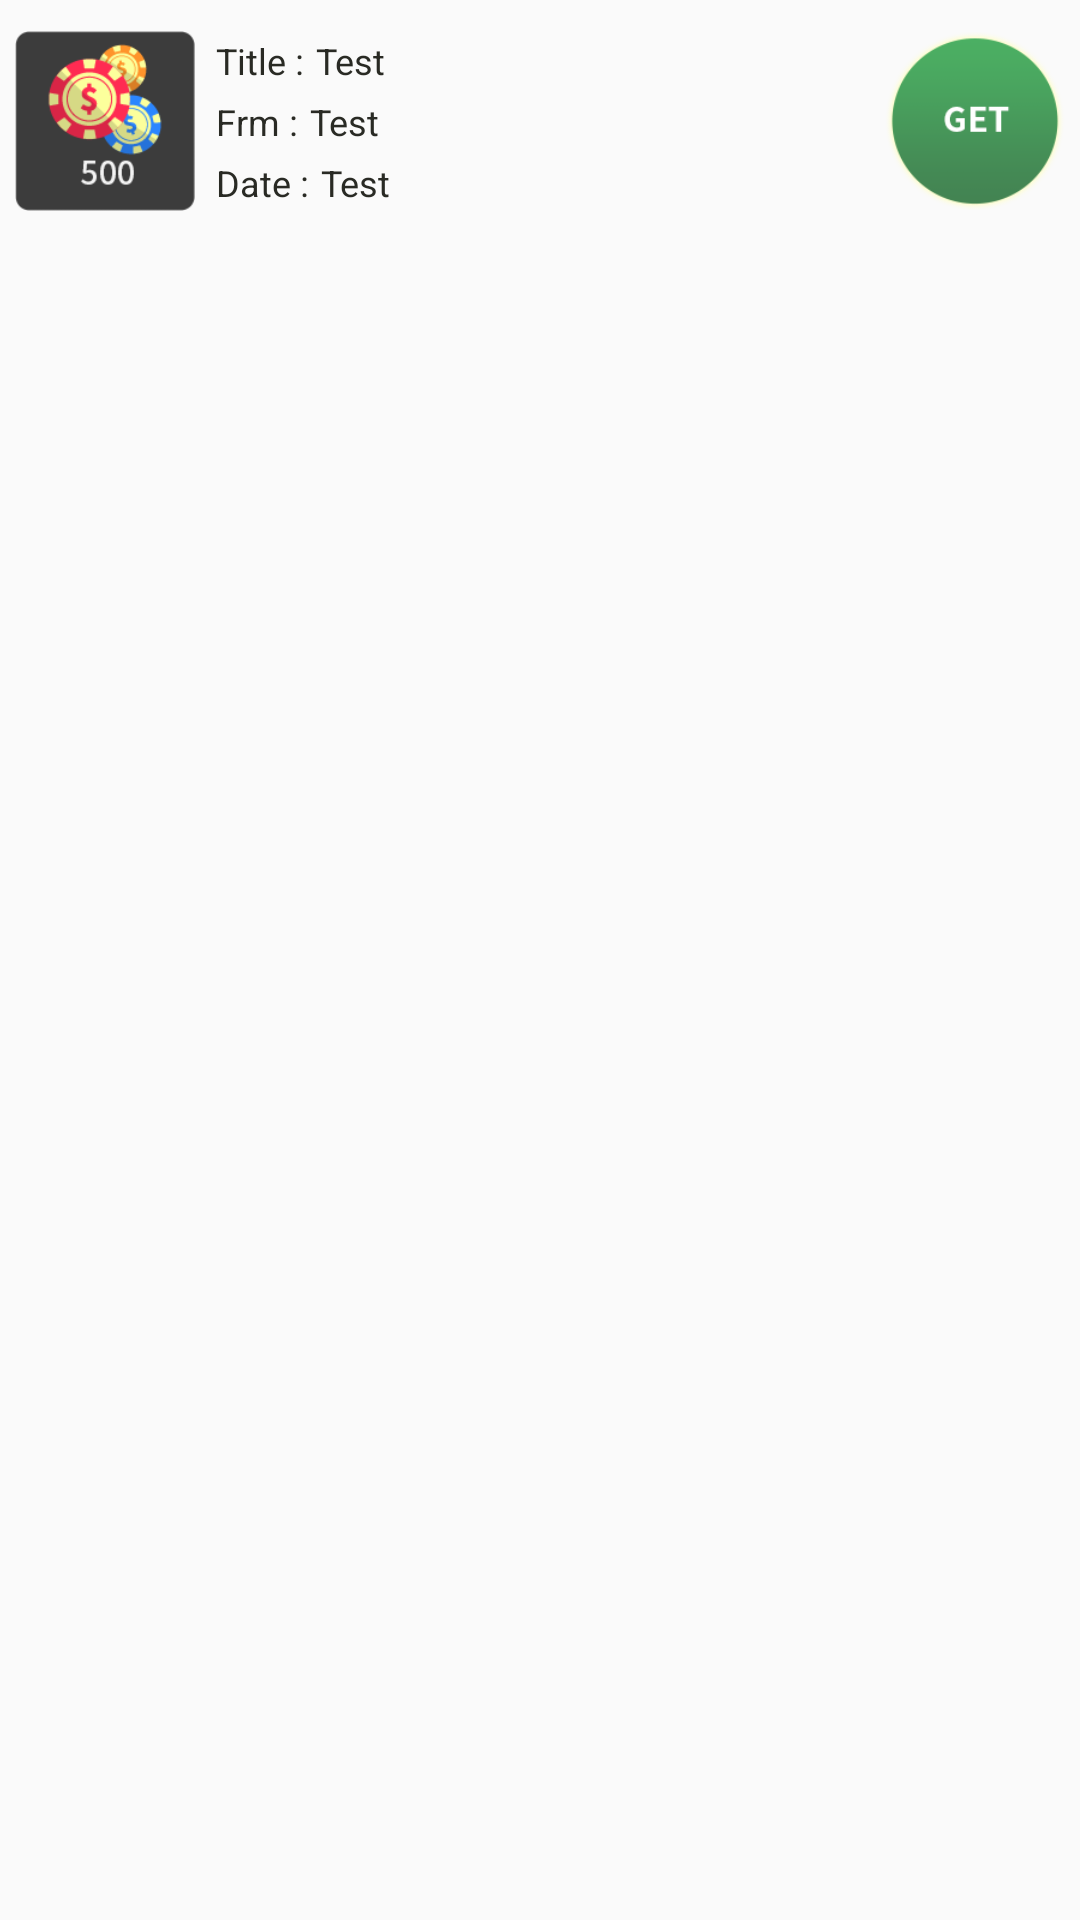

Locate icon controls on the screen. Image size 1080w x 1920h, boxes as box(x1, y1, x2, y2).
coinicon: box(15, 31, 195, 211)
